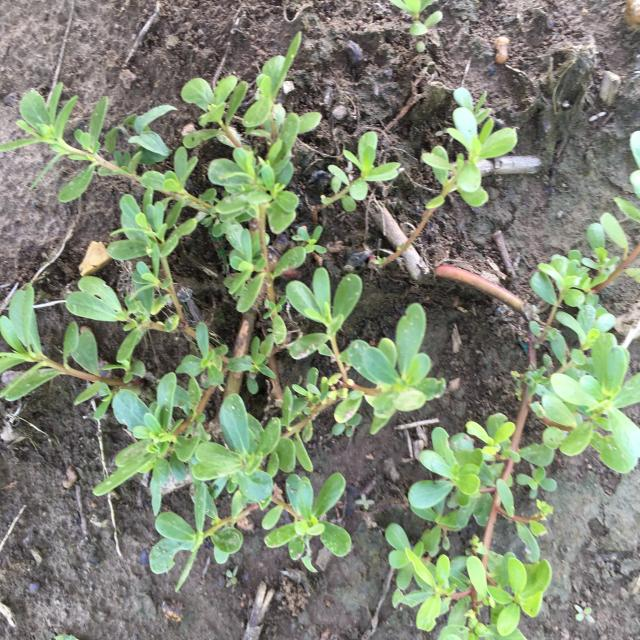Purslane: (0, 32, 446, 593), (385, 130, 640, 640), (375, 86, 518, 266), (320, 131, 401, 212), (388, 0, 442, 52)
